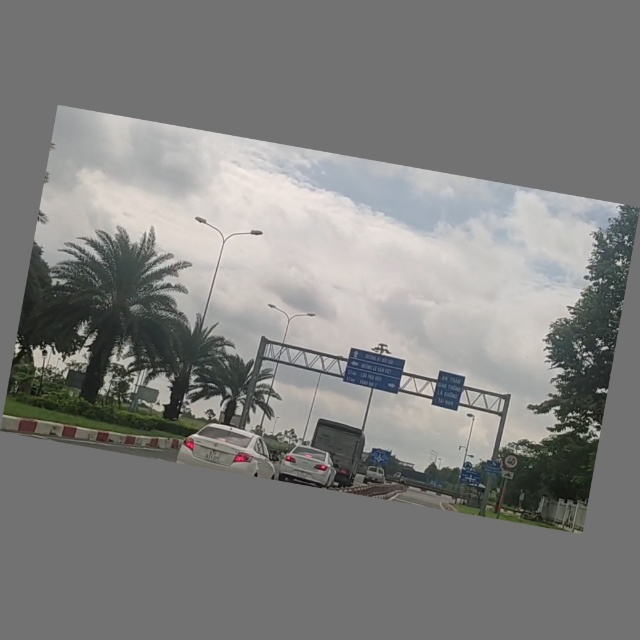P.127*40: (502, 454, 519, 471)
S.505a*Xe may: (500, 469, 515, 481)
